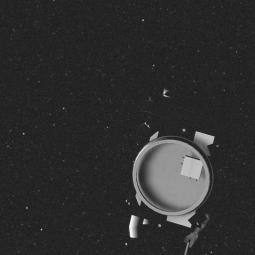proba_3_csc: (121, 90, 222, 255)
